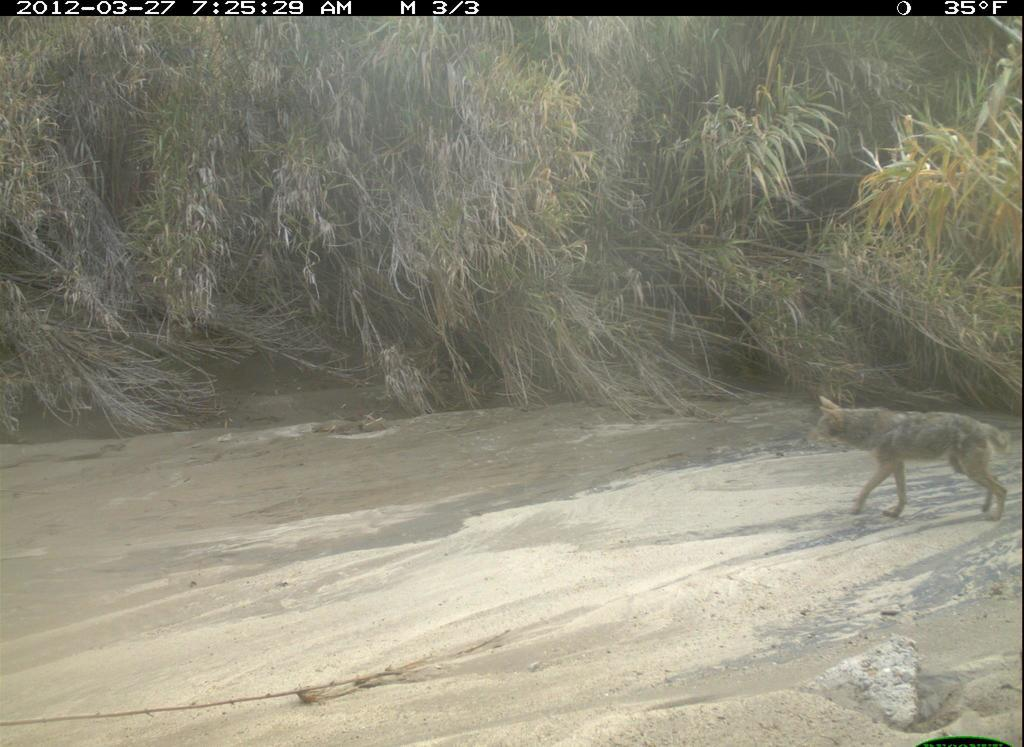coyote: (802, 387, 1018, 534)
